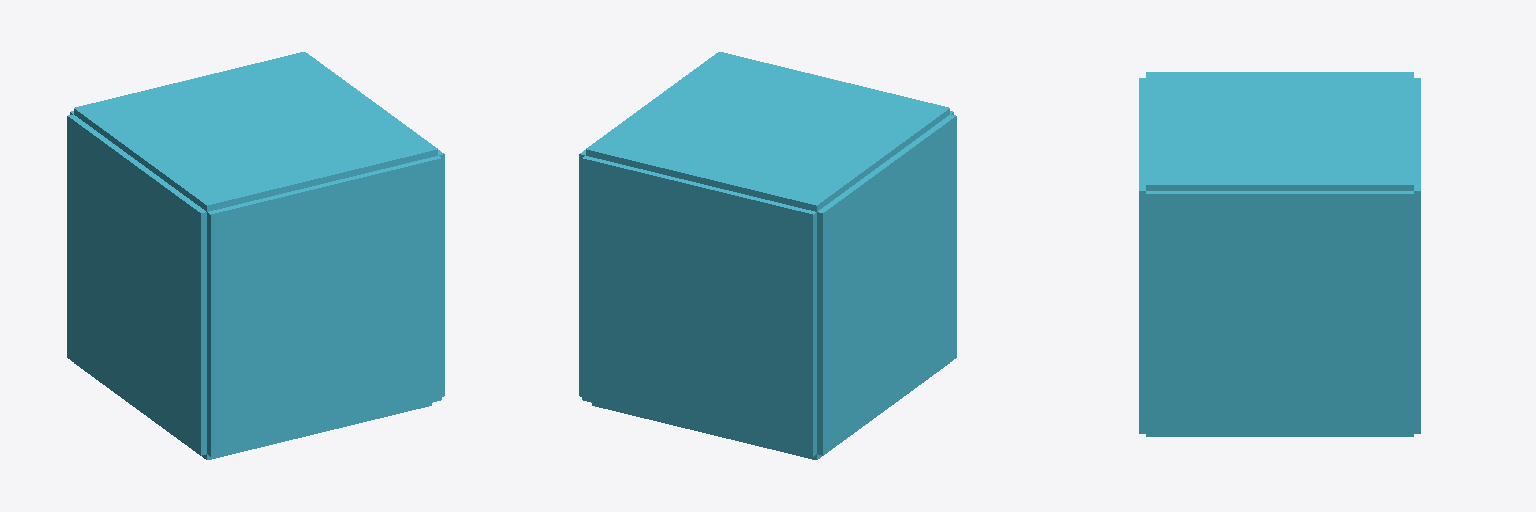
3 views of the same model, side by side, from view 1: azimuth 30°, elevation 25°; view 2: azimuth 150°, elevation 25°; view 3: azimuth 270°, elevation 25° (orthographic).
Visible parts, largest first — view 1: object 1; view 2: object 1; view 3: object 1.
Boxes of the visible parts, x1,y1,x2,y2 form: object 1: [67, 52, 444, 459]; object 1: [579, 52, 956, 459]; object 1: [1139, 72, 1420, 436].
Size of the model in its own units: 4 by 4 by 4.
1 materials, 1 textured.